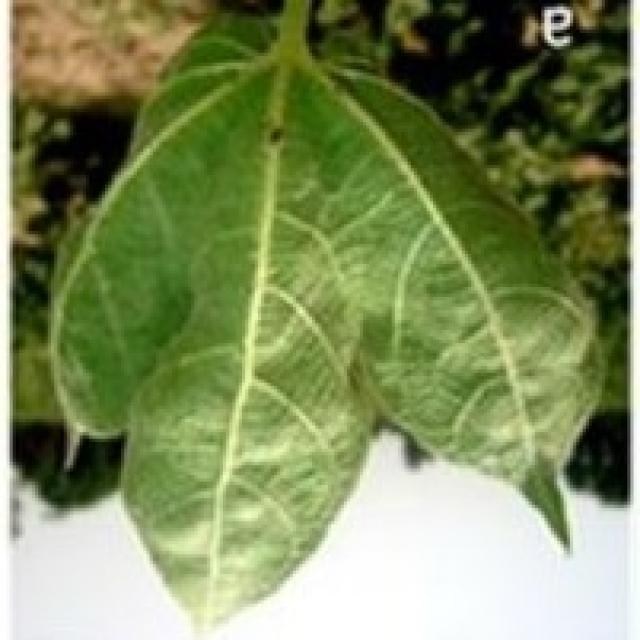Leaf Curl Virus: (128, 135, 556, 477)
